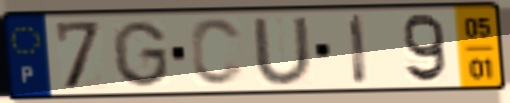7: (54, 18, 106, 93)
9: (401, 11, 450, 84)
C: (187, 16, 247, 89)
G: (109, 18, 172, 90)
I: (347, 12, 371, 88)
U: (249, 14, 316, 87)
